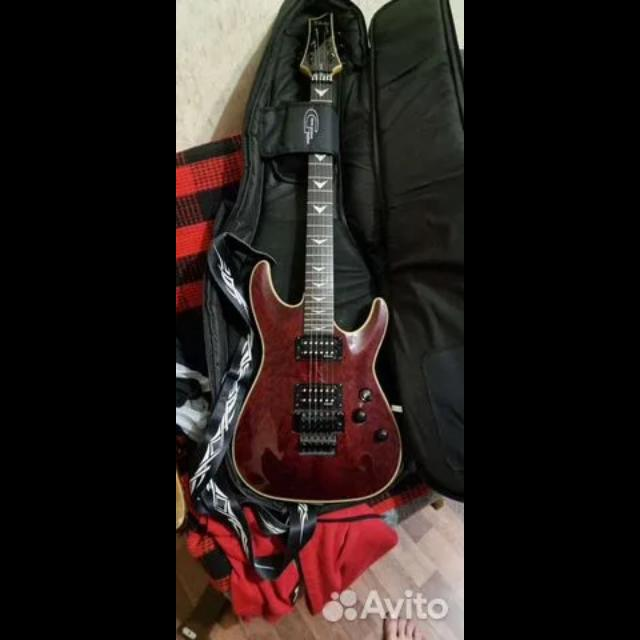Electric-Guitar: (235, 12, 402, 502)
